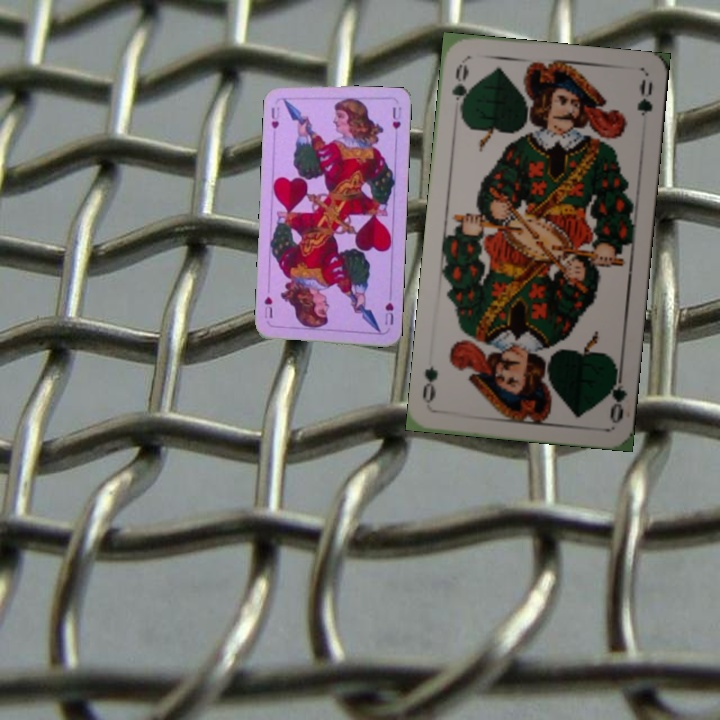GO: (602, 364, 630, 424), (447, 59, 472, 118)
HU: (267, 103, 284, 131), (381, 298, 396, 327)
